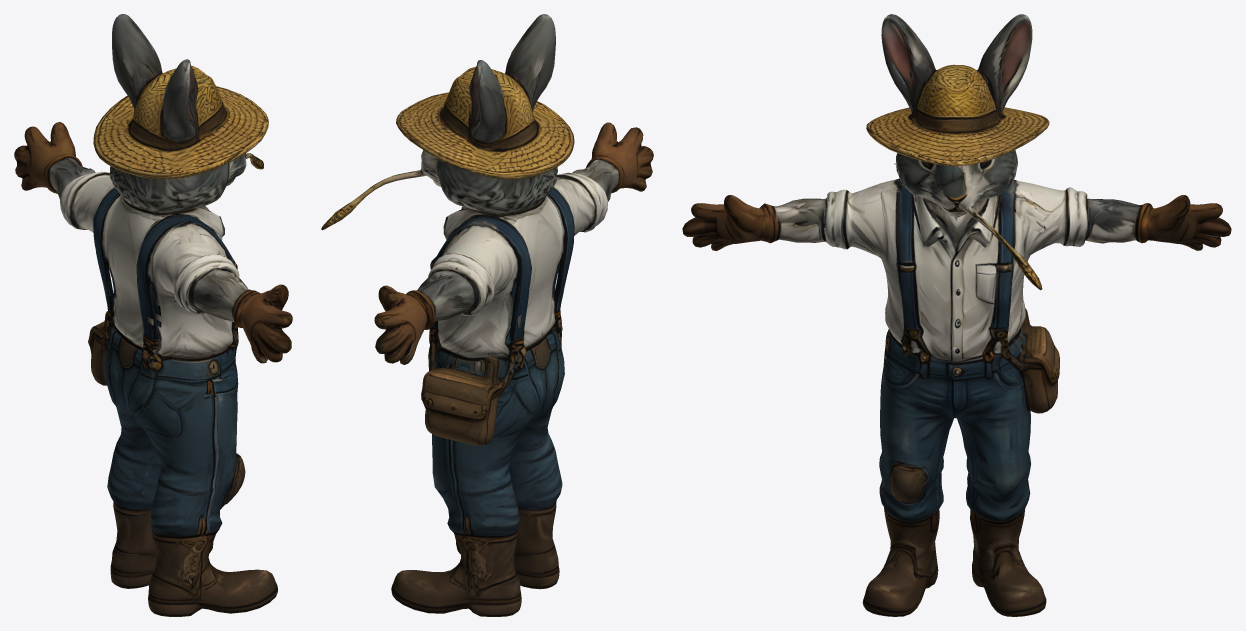
Rendered from tripo_convert_f4c1508a-242d-42d4-a3af-13931c362653.fbx.
3 views of the same model, side by side, from view 1: azimuth 30°, elevation 25°; view 2: azimuth 150°, elevation 25°; view 3: azimuth 270°, elevation 25° (orthographic).
Parts seen in each view (by area): view 1: tripo_node_f4c1508a; view 2: tripo_node_f4c1508a; view 3: tripo_node_f4c1508a.
Part boxes in pixels (left/top/right/bottom): tripo_node_f4c1508a: left=14, top=14, right=292, bottom=616; tripo_node_f4c1508a: left=321, top=14, right=653, bottom=616; tripo_node_f4c1508a: left=682, top=14, right=1231, bottom=616.
Size of the model in its own units: 0.3753 by 0.9988 by 0.8742.
